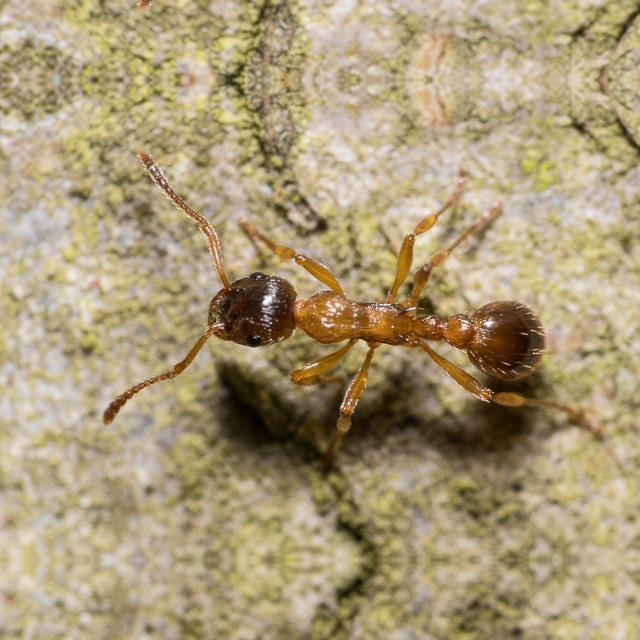Myrmica: (166, 219, 578, 425)
